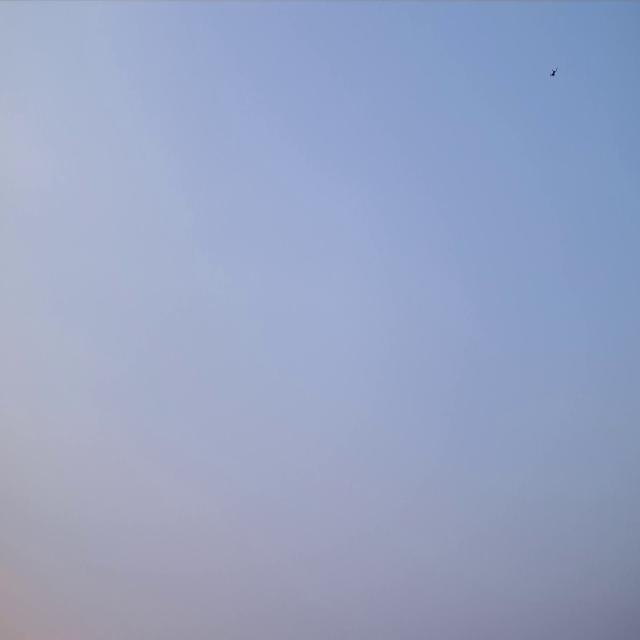UAV: (550, 66, 558, 76)
